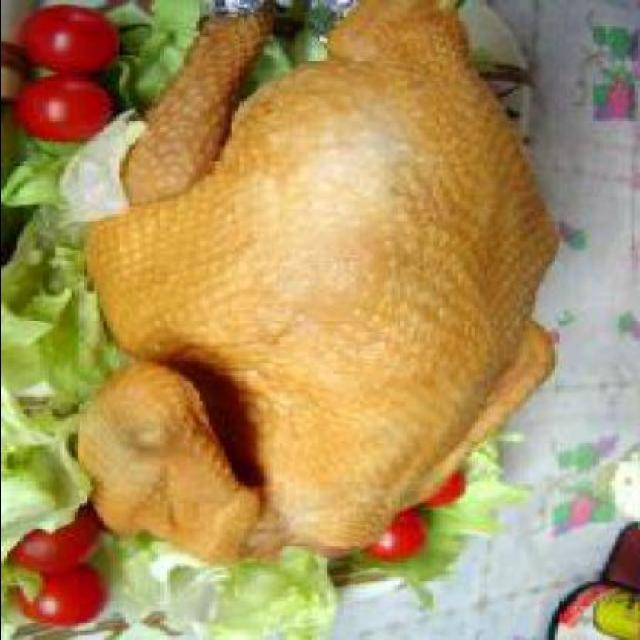Chicken roast: (38, 43, 538, 585)
Tomato: (16, 66, 99, 152), (6, 572, 100, 628), (28, 10, 108, 70)
